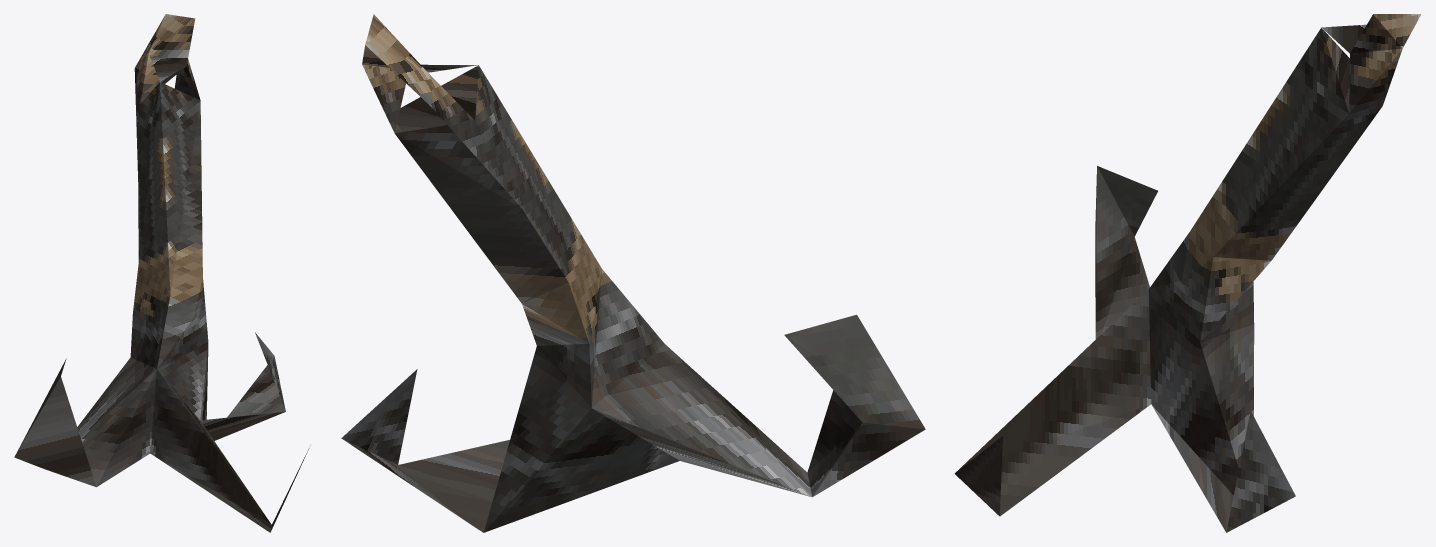
Rendered from gancho_trepa.glb.
3 renders of one model, left to right at view 1: azimuth 30°, elevation 25°; view 2: azimuth 150°, elevation 25°; view 3: azimuth 270°, elevation 25°, orthographic. The views are drawn at different scales.
Visible parts, largest first — view 1: utileria.herramienta.gancho_trepa; view 2: utileria.herramienta.gancho_trepa; view 3: utileria.herramienta.gancho_trepa.
Part boxes in pixels (x1=…): utileria.herramienta.gancho_trepa: x1=14, y1=14, x2=309, y2=532; utileria.herramienta.gancho_trepa: x1=341, y1=14, x2=925, y2=532; utileria.herramienta.gancho_trepa: x1=954, y1=14, x2=1421, y2=532.
Size of the model in its own units: 0.3503 by 0.4 by 0.3114.
1 material, 1 textured.
